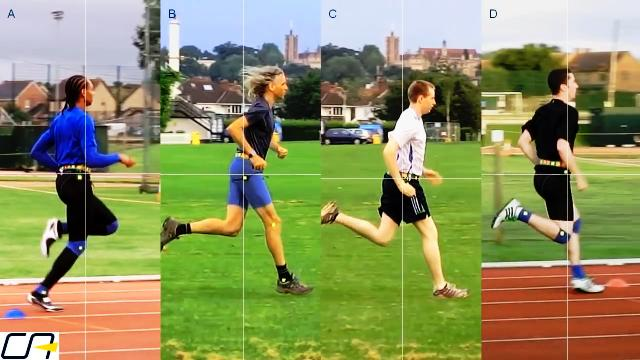berlari: (154, 61, 314, 299), (320, 77, 470, 301), (486, 62, 610, 298), (24, 68, 134, 316)
